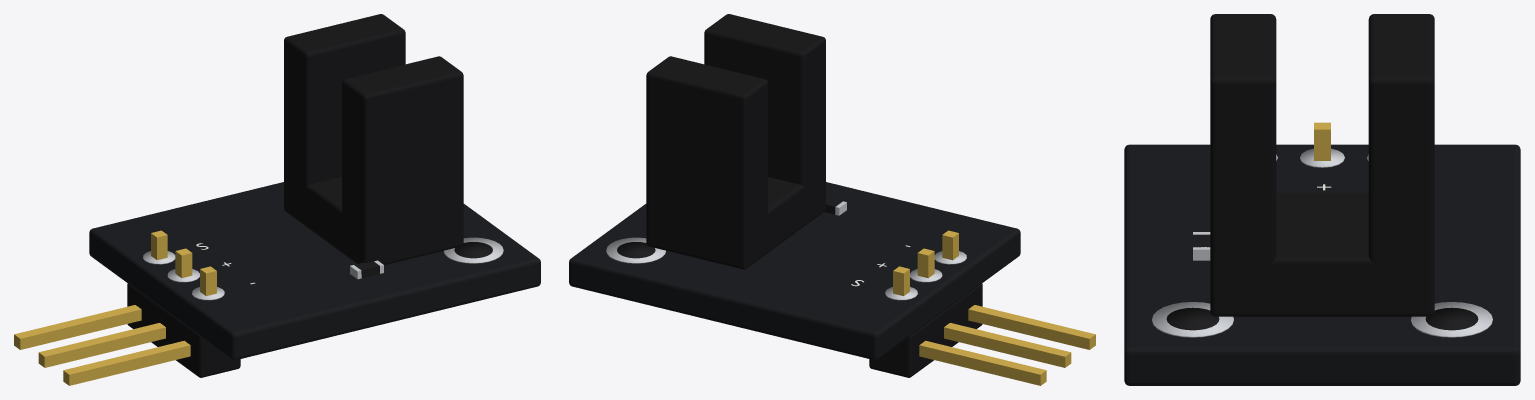
The model's file is light-blocking-sensor.glb.
3 views of the same model, side by side, from view 1: azimuth 30°, elevation 25°; view 2: azimuth 150°, elevation 25°; view 3: azimuth 270°, elevation 25° (orthographic). The views are drawn at different scales.
Visible parts, largest first — view 1: pcb.003, part.002, part.003, part.004, header.003, pin_h.011, pin_h.009, pin_h.010, hole_ring.007, hole.007, pin_v.010, pin_v.009 (+1 smaller); view 2: pcb.003, part.003, part.002, part.004, header.003, pin_h.009, pin_h.010, pin_h.011, hole_ring.006, hole.006, pin_v.010, pin_v.011 (+1 smaller); view 3: pcb.003, part.003, part.002, part.004, hole_ring.006, hole_ring.007, hole.006, hole.007, pin_v.010, pad.010.
Part boxes in pixels (left/top/right/bottom): pcb.003: left=89, top=182, right=540, bottom=360; part.002: left=342, top=56, right=463, bottom=263; part.003: left=284, top=14, right=405, bottom=225; part.004: left=284, top=177, right=463, bottom=265; header.003: left=127, top=283, right=240, bottom=377; pin_h.011: left=63, top=340, right=190, bottom=385; pin_h.009: left=14, top=305, right=141, bottom=349; pin_h.010: left=38, top=323, right=165, bottom=367; hole_ring.007: left=444, top=237, right=503, bottom=263; hole.007: left=454, top=242, right=492, bottom=258; pin_v.010: left=175, top=248, right=192, bottom=278; pin_v.009: left=151, top=230, right=167, bottom=260; pcb.003: left=569, top=182, right=1020, bottom=360; part.003: left=646, top=56, right=767, bottom=268; part.002: left=704, top=14, right=825, bottom=225; part.004: left=646, top=175, right=825, bottom=269; header.003: left=869, top=283, right=982, bottom=377; pin_h.009: left=919, top=340, right=1046, bottom=385; pin_h.010: left=944, top=323, right=1071, bottom=367; pin_h.011: left=968, top=305, right=1095, bottom=349; hole_ring.006: left=606, top=237, right=665, bottom=263; hole.006: left=617, top=242, right=655, bottom=258; pin_v.010: left=917, top=248, right=934, bottom=278; pin_v.011: left=942, top=230, right=958, bottom=260; pcb.003: left=1124, top=144, right=1520, bottom=385; part.003: left=1368, top=14, right=1434, bottom=316; part.002: left=1210, top=14, right=1276, bottom=316; part.004: left=1210, top=193, right=1433, bottom=316; hole_ring.006: left=1411, top=302, right=1492, bottom=337; hole_ring.007: left=1152, top=302, right=1233, bottom=337; hole.006: left=1425, top=307, right=1478, bottom=330; hole.007: left=1166, top=307, right=1219, bottom=330; pin_v.010: left=1314, top=122, right=1330, bottom=160; pad.010: left=1300, top=148, right=1344, bottom=167.
Size of the model in its own units: 0.0256 by 0.0141 by 0.015.
